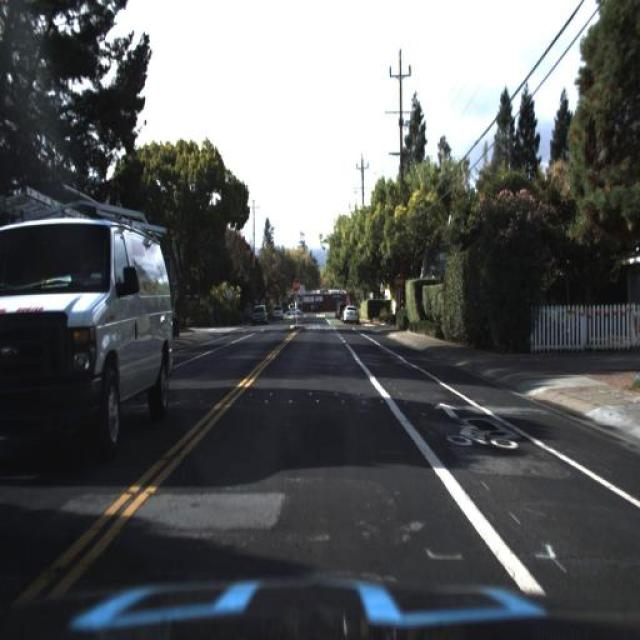car: (342, 298, 359, 326)
